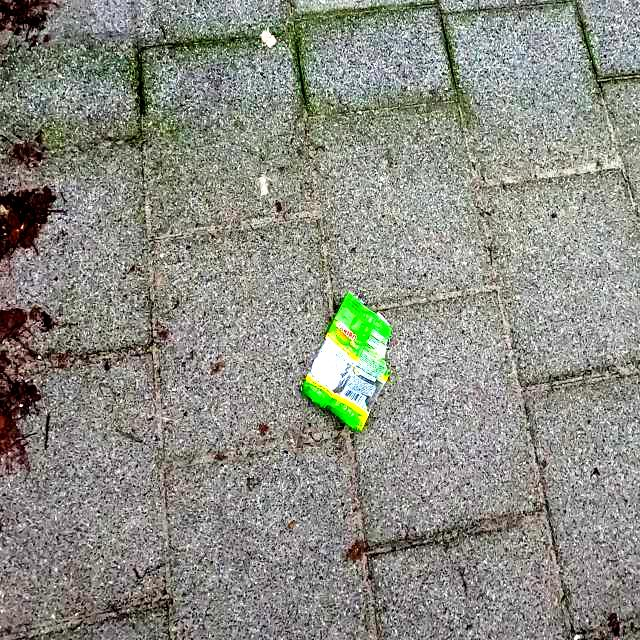Plastic: (300, 288, 394, 434)
